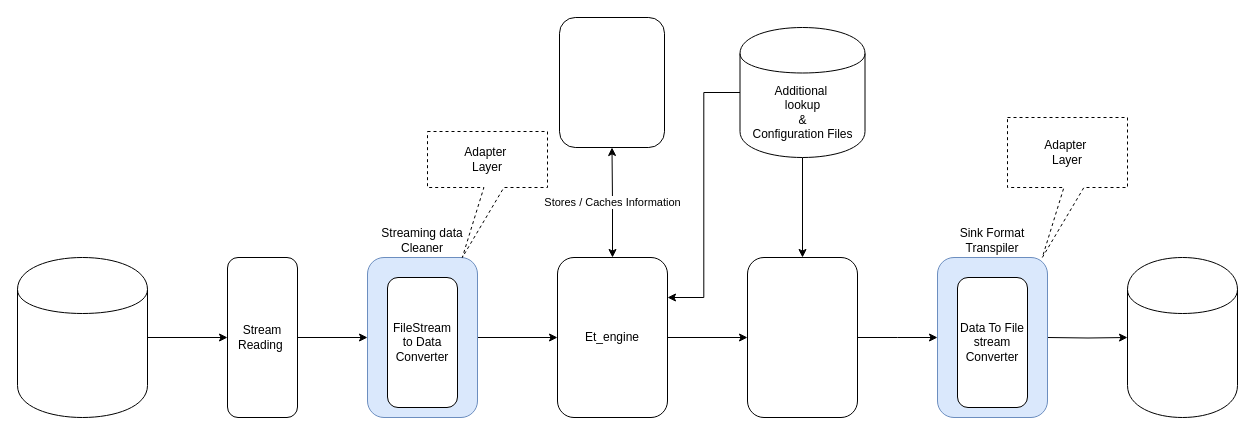
Image size: 1255x435. Some labels were removed from this diagram. Here are the shapes that lost their labels. From the top down, the centre of each, then its label:
point (611, 82): Lookups & Data Mappers
point (82, 337): Csv File & Input Data
point (802, 337): Post Extraction Verification
point (1182, 337): Streaming Data Sink writer
